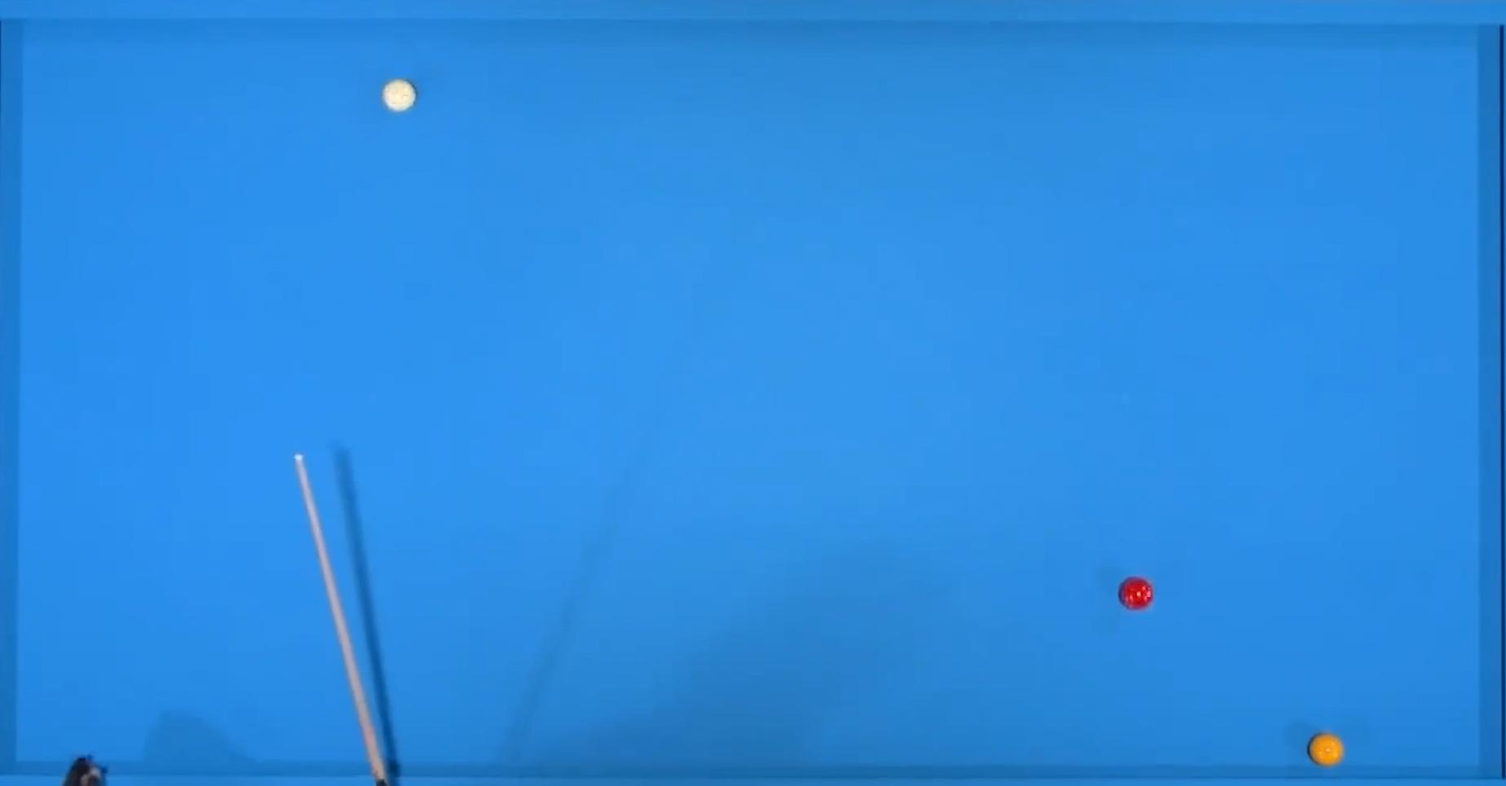red ball: (1115, 570, 1158, 617)
white ball: (380, 76, 419, 116)
yellow ball: (1308, 730, 1342, 768)
